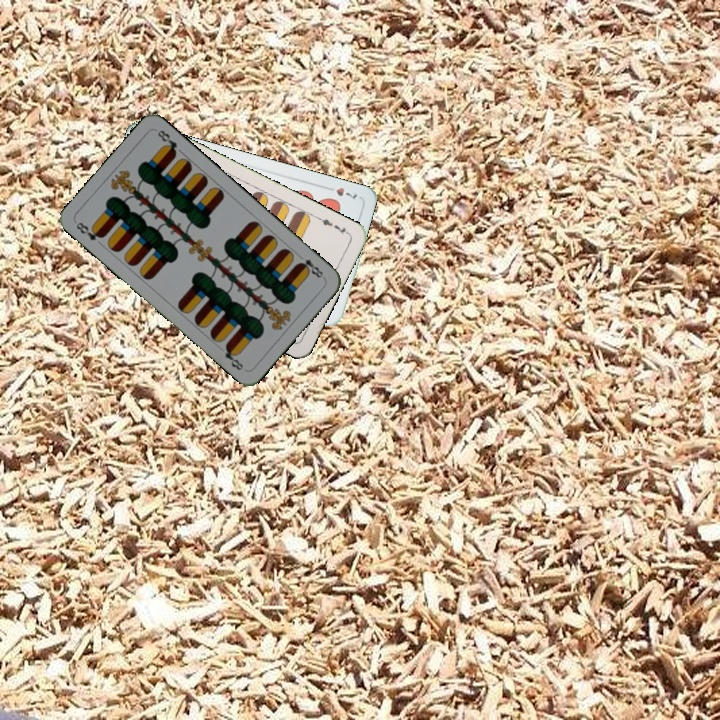E7: (314, 213, 352, 238)
E8: (72, 218, 107, 243), (294, 255, 327, 281)
H7: (321, 182, 360, 202)
